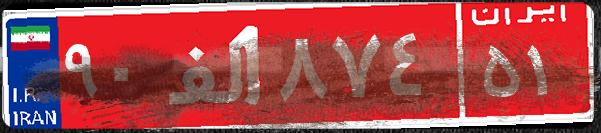0: (110, 28, 158, 105)
1: (525, 38, 570, 115)
4: (385, 28, 445, 110)
5: (475, 38, 525, 113)
7: (330, 28, 385, 110)
8: (273, 28, 330, 110)
9: (57, 26, 110, 107)
الف: (158, 15, 273, 115)
